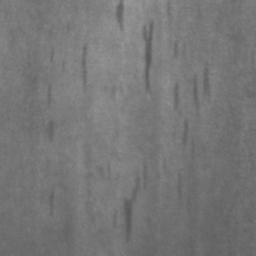Inclusion: (142, 22, 154, 87), (122, 197, 133, 239), (115, 0, 124, 26)
